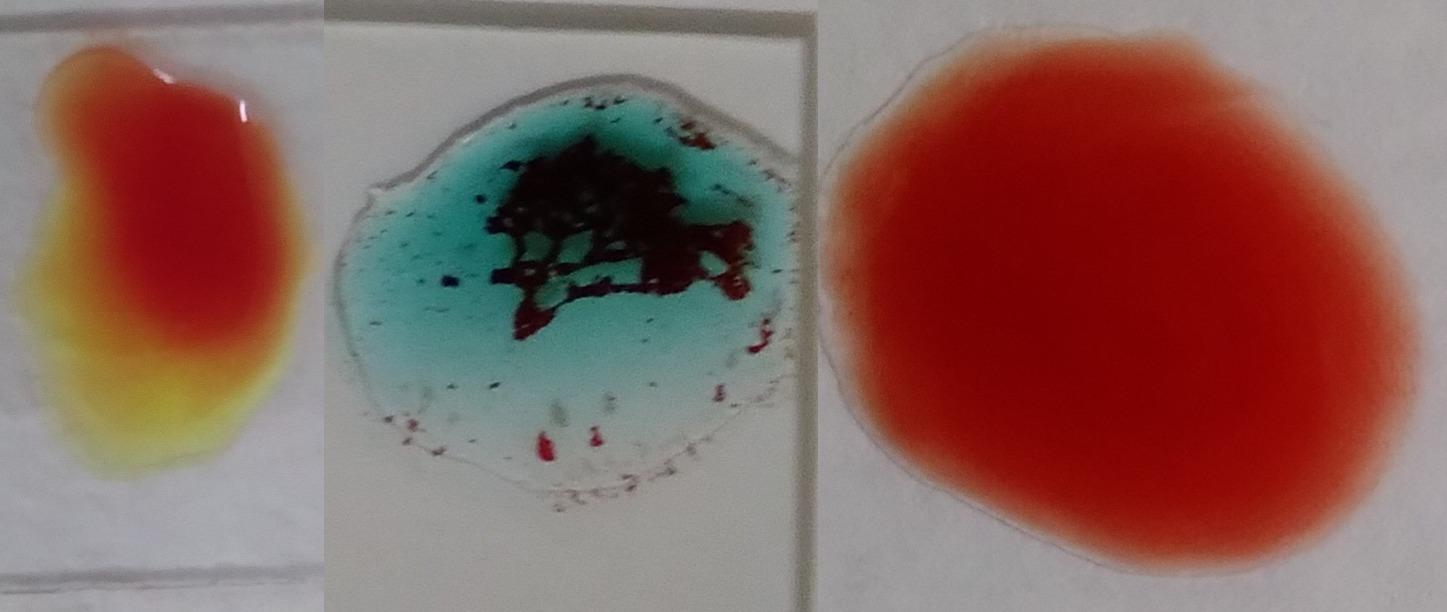A: (332, 70, 780, 509)
